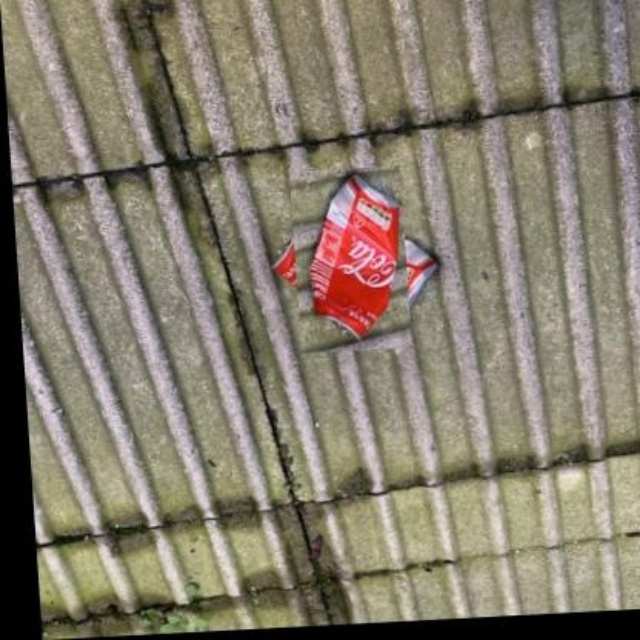trash: (300, 174, 437, 337), (309, 175, 398, 335)
